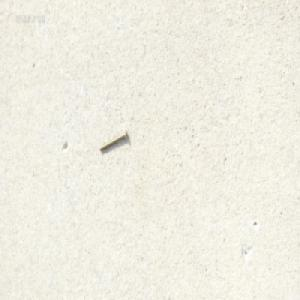Bolt: (99, 128, 128, 152)
